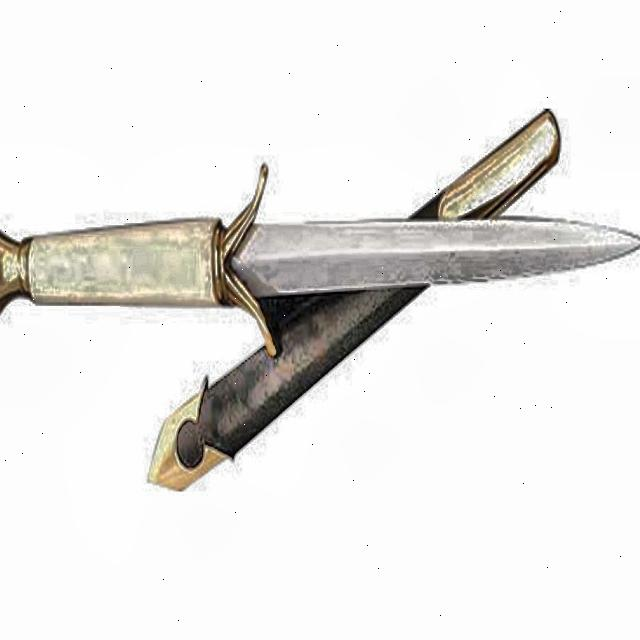knife: (0, 162, 640, 356)
